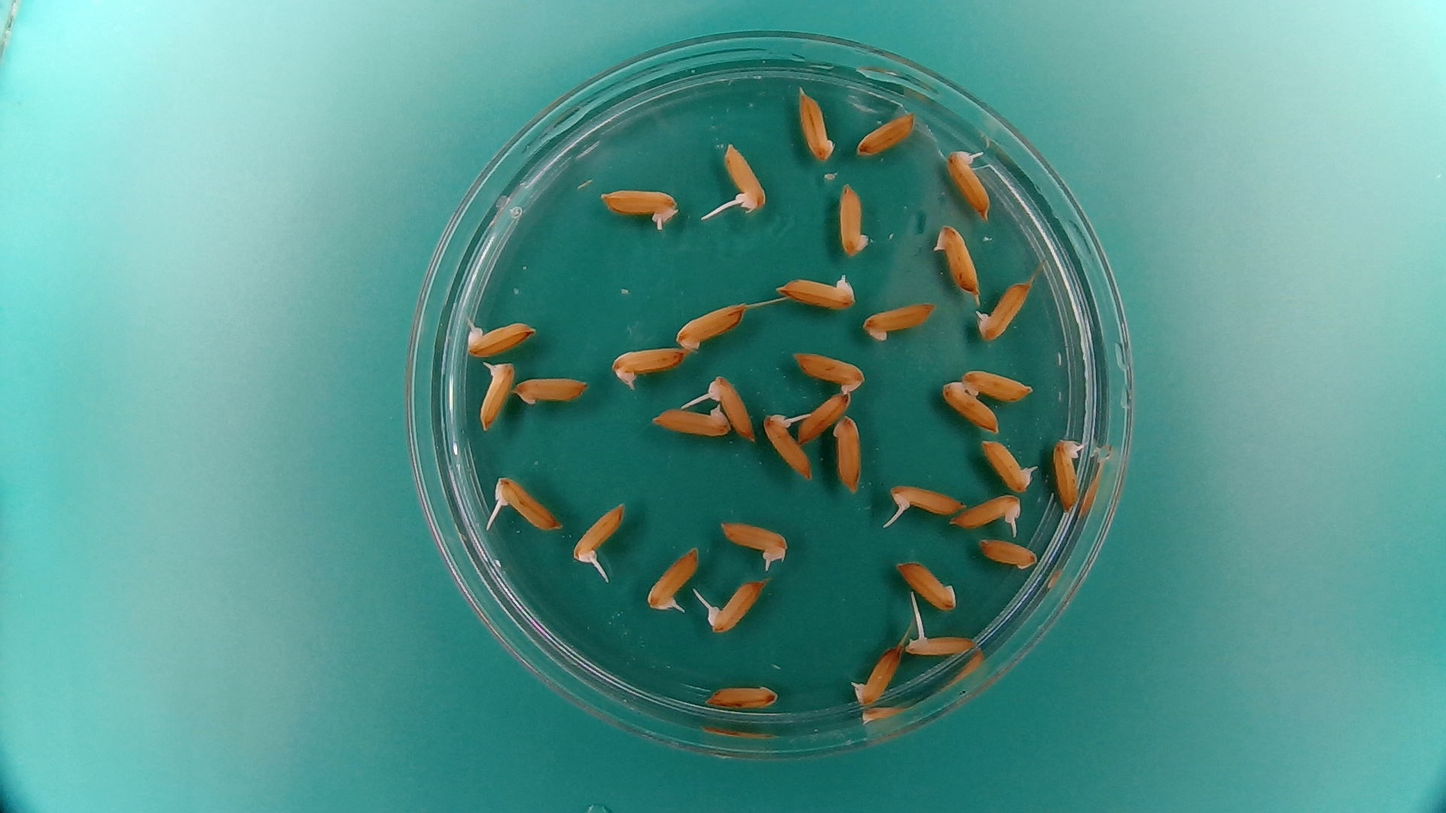no: (671, 298, 752, 355), (788, 345, 869, 396), (859, 297, 941, 344), (795, 82, 840, 166), (939, 378, 1002, 436), (933, 221, 981, 294), (854, 107, 918, 160), (894, 561, 959, 612), (794, 390, 852, 446), (834, 178, 873, 259), (647, 403, 731, 440), (700, 678, 783, 714), (831, 414, 864, 495), (960, 369, 1034, 403), (511, 377, 593, 407), (976, 535, 1041, 572)
yes: (642, 540, 703, 614), (495, 475, 566, 534), (703, 575, 769, 634), (570, 500, 627, 566), (763, 413, 813, 485), (850, 642, 904, 708), (944, 150, 993, 220), (978, 435, 1036, 494), (978, 282, 1033, 343), (463, 315, 540, 358), (710, 376, 756, 445), (476, 355, 517, 432), (1049, 431, 1087, 513), (898, 623, 981, 660), (612, 346, 686, 386), (722, 522, 787, 567), (725, 144, 767, 212), (597, 190, 674, 226), (889, 483, 966, 517), (777, 274, 857, 306), (949, 495, 1023, 528)
